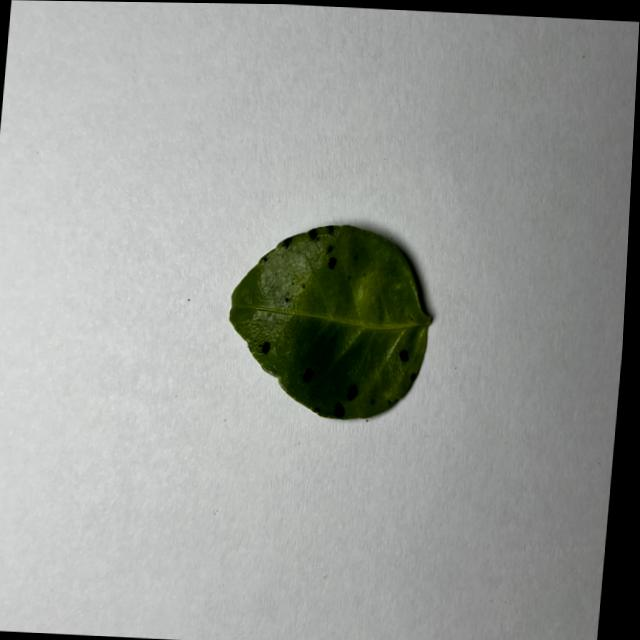sooty_mold: (230, 224, 430, 418)
